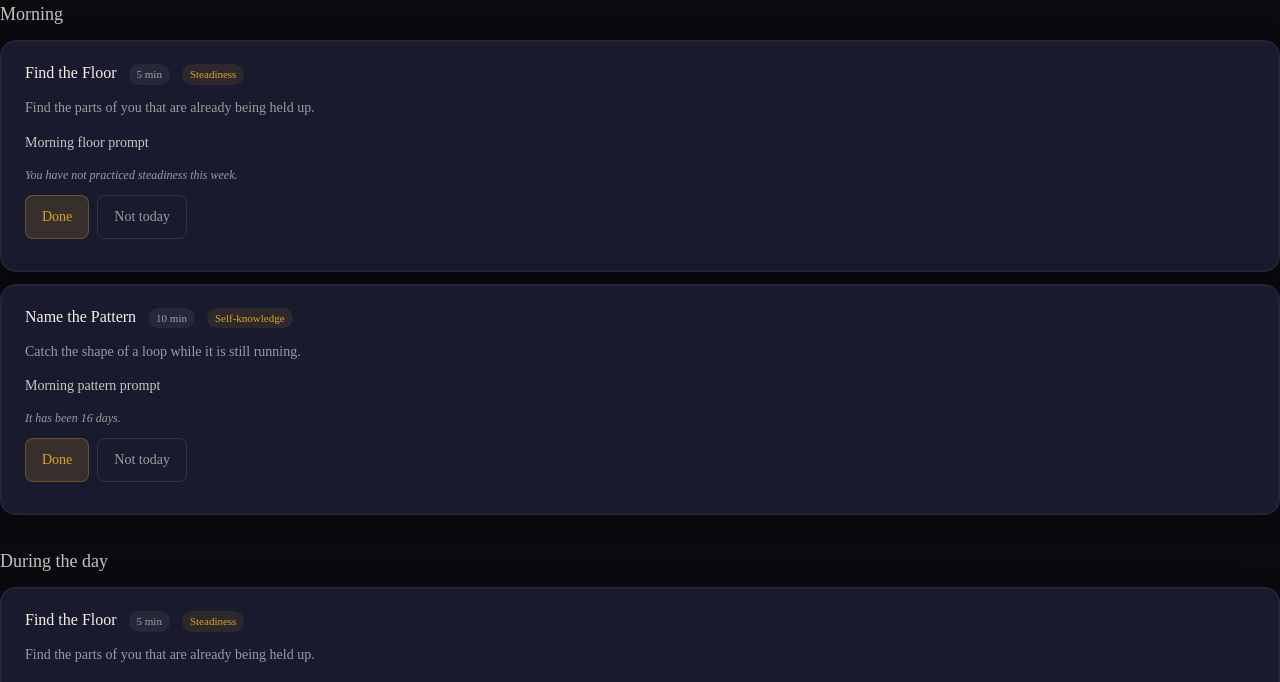
it: DailyProtocol completion › marks the card done before the write resolves
This screenshot has width=1280, height=682.
Click the button "Done" below "Morning floor prompt": (57, 216) [25,194,89,238]
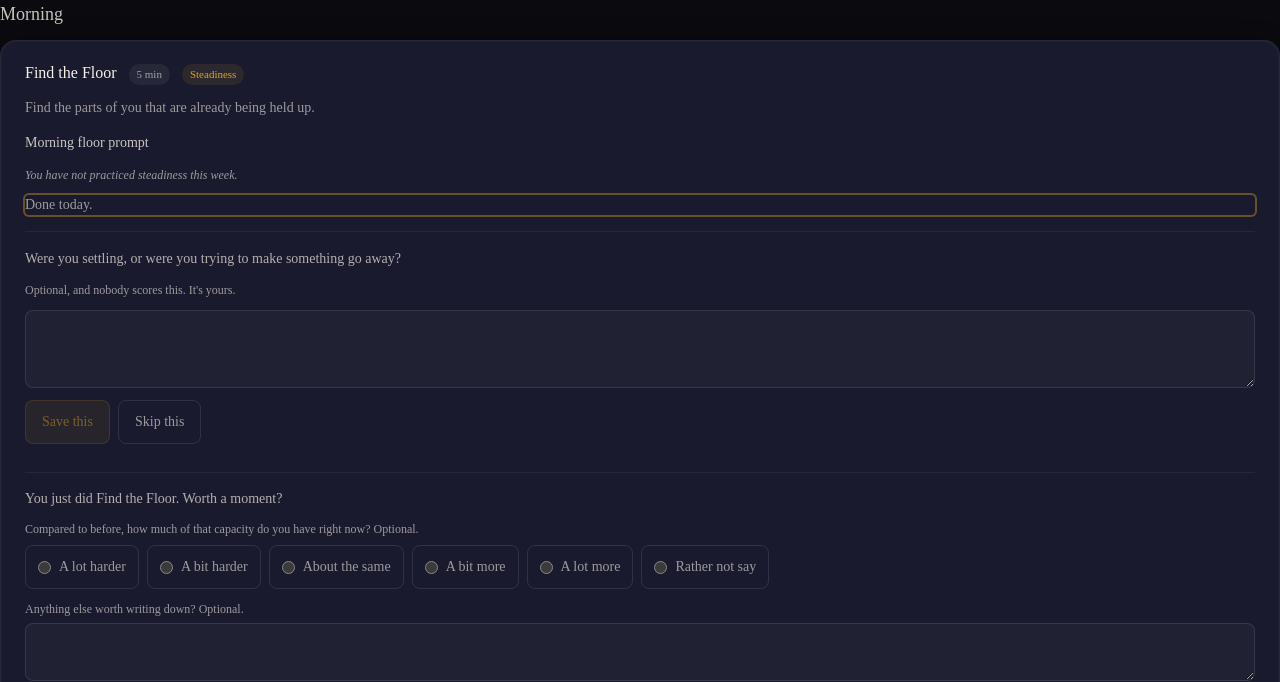
Check: the text "Done today." is shown, box [25,194,1255,214]
